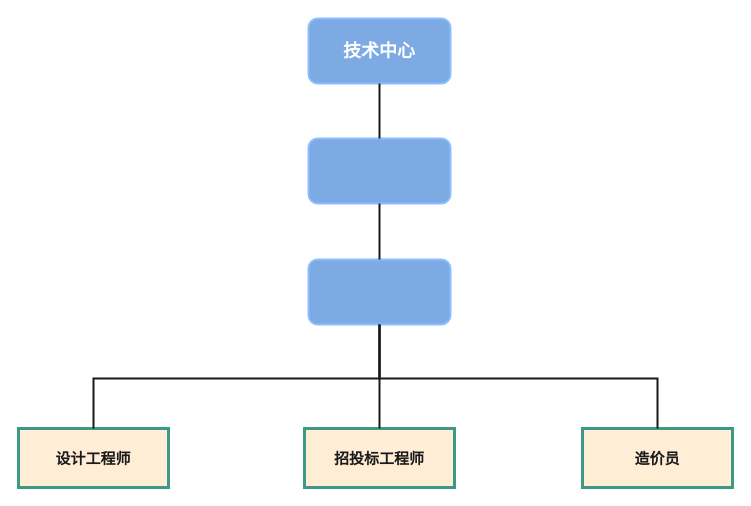
The diagram is 751 pixels wide and 506 high, and some of its shapes have lost their labels. The centre of each missing label's shape, as x and y in pixels:
"技术总监" belongs at pixel 379 170.
"技术经理" belongs at pixel 379 291.
